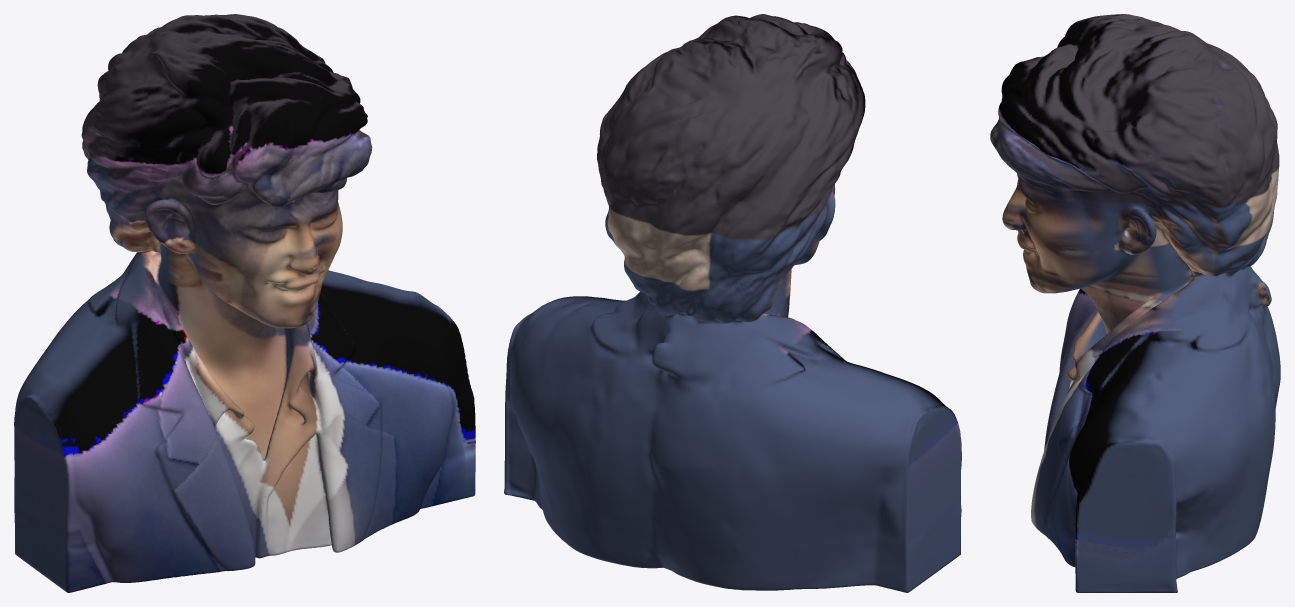
File: saravanakumar_bust.glb
3 views of the same model, side by side, from view 1: azimuth 30°, elevation 25°; view 2: azimuth 150°, elevation 25°; view 3: azimuth 270°, elevation 25° (orthographic). The views are drawn at different scales.
Parts seen in each view (by area): view 1: white_mesh.glb; view 2: white_mesh.glb; view 3: white_mesh.glb.
Part boxes in pixels (box(x1,y1,x2,y2)): white_mesh.glb: box(14, 14, 475, 592); white_mesh.glb: box(504, 14, 961, 592); white_mesh.glb: box(990, 14, 1280, 592).
Size of the model in its own units: 1.67 by 1.96 by 1.12.
